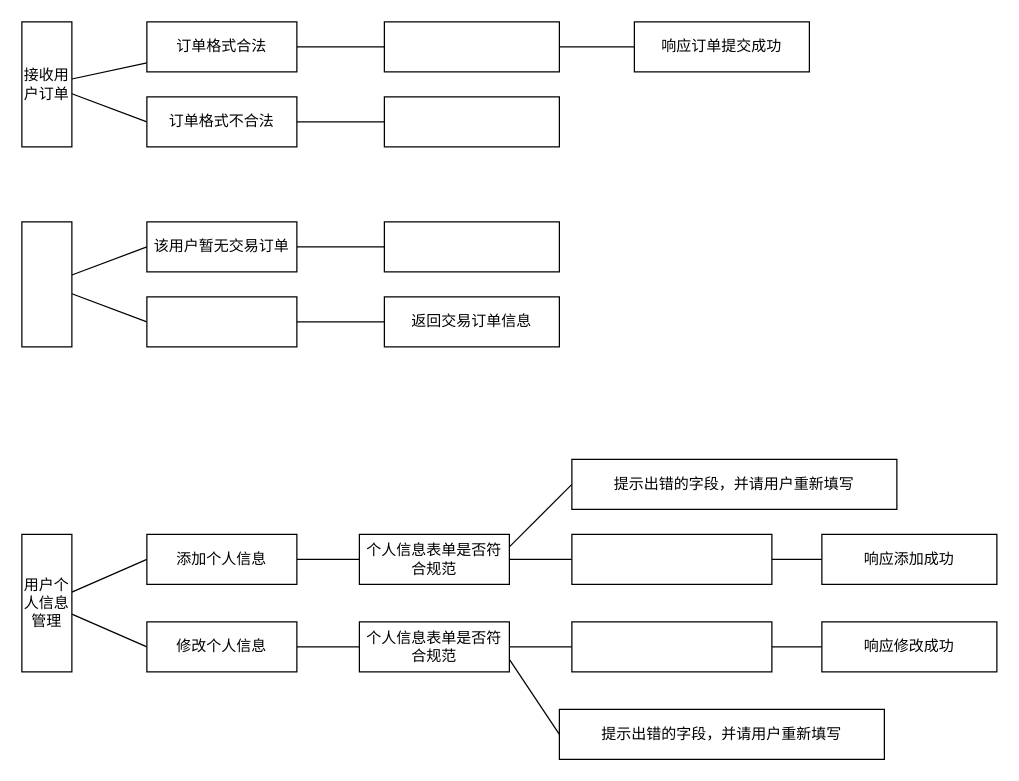
Some shapes in this 1019 by 781 pixel diagram are drawn without their labels. Each missing label, with the box of its shape:
在数据库中修改个人信息: (571, 621, 772, 672)
将个人信息存储到数据库中: (571, 533, 772, 584)
将订单存储到数据库中: (383, 21, 559, 72)
提示用户修改订单格式: (383, 96, 559, 147)
有交易订单: (146, 296, 297, 347)
查询订单: (21, 221, 72, 347)
返回无交易订单提示: (383, 221, 559, 272)
